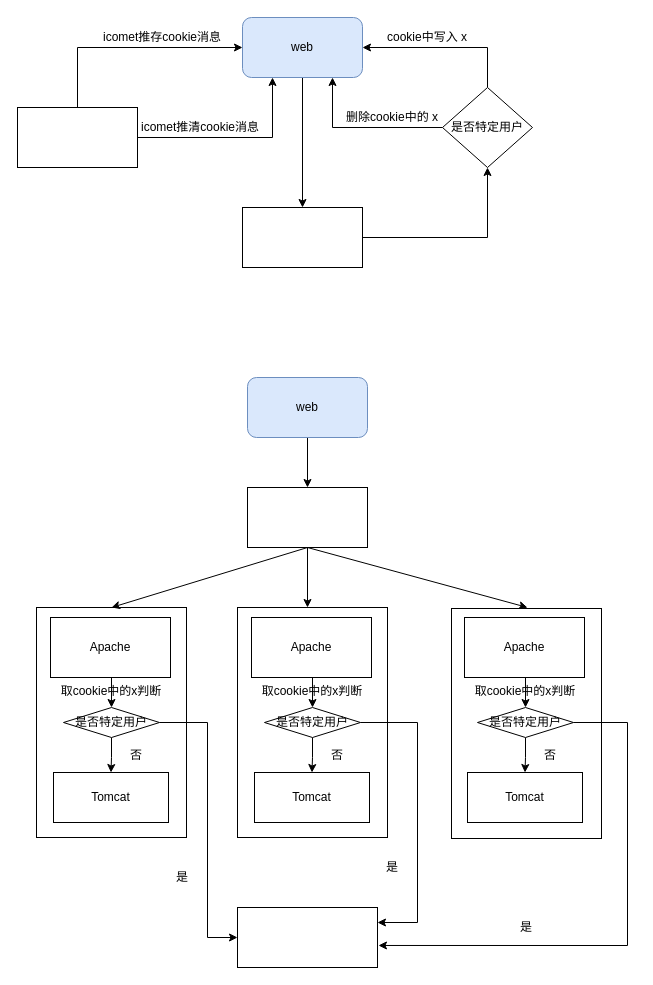
Image size: 653x985. Some labels were removed from this diagram. The centre of each missing label's shape, as x and y in pixels:
cas认证中心: pixel 302 237
SLB: pixel 307 517
管理服务: pixel 77 137
预发布：Tomcat: pixel 307 937
